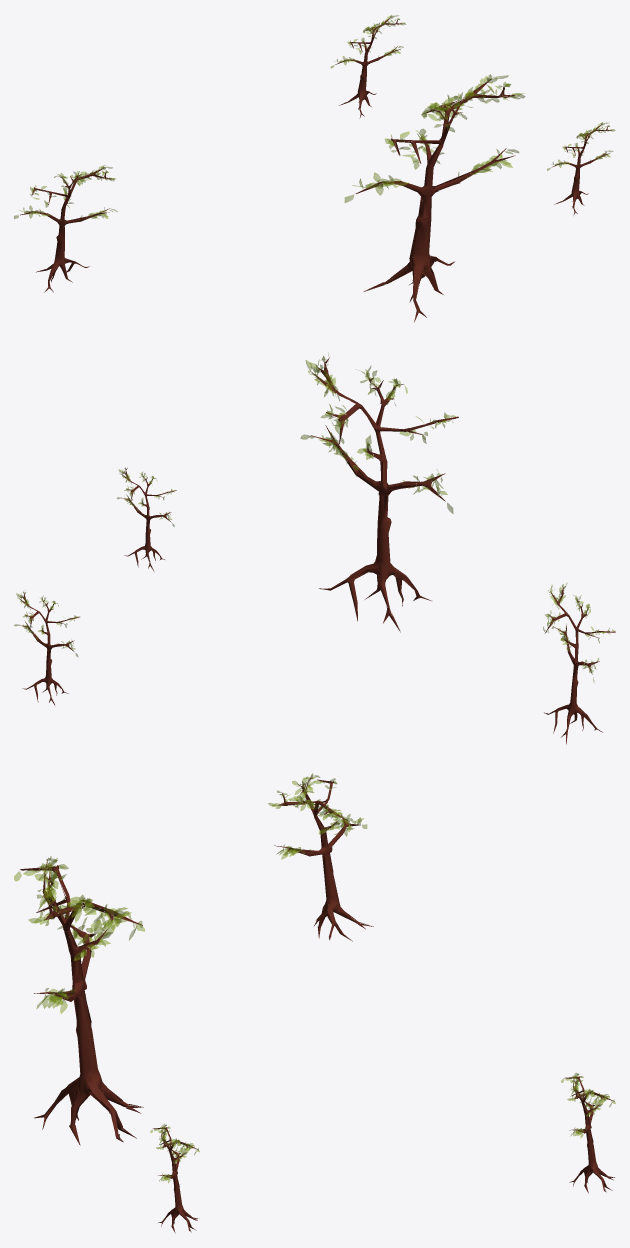
File: starter_area_v3_realistic_trees.glb
3 renders of one model, top to bottom at view 1: azimuth 30°, elevation 25°; view 2: azimuth 150°, elevation 25°; view 3: azimuth 270°, elevation 25°, orthographic. The views are drawn at different scales.
Visible parts, largest first — view 1: realistic_tree.008, realistic_tree.006, realistic_tree.007, realistic_tree.009; view 2: realistic_tree.008, realistic_tree.006, realistic_tree.007, realistic_tree.009; view 3: realistic_tree.008, realistic_tree.006, realistic_tree.007, realistic_tree.009.
Part boxes in pixels (x1=…): realistic_tree.008: x1=344, y1=74, x2=525, y2=322; realistic_tree.006: x1=14, y1=165, x2=117, y2=292; realistic_tree.007: x1=330, y1=15, x2=405, y2=118; realistic_tree.009: x1=547, y1=122, x2=615, y2=215; realistic_tree.008: x1=300, y1=352, x2=458, y2=632; realistic_tree.006: x1=543, y1=583, x2=615, y2=744; realistic_tree.007: x1=14, y1=590, x2=79, y2=704; realistic_tree.009: x1=117, y1=467, x2=176, y2=571; realistic_tree.008: x1=14, y1=856, x2=144, y2=1145; realistic_tree.006: x1=268, y1=773, x2=373, y2=941; realistic_tree.007: x1=561, y1=1073, x2=615, y2=1193; realistic_tree.009: x1=150, y1=1124, x2=199, y2=1233.
Bounding box in the file's own units: 48.2 × 18.83 × 35.41.
Materials: 8 (4 with a texture image).
